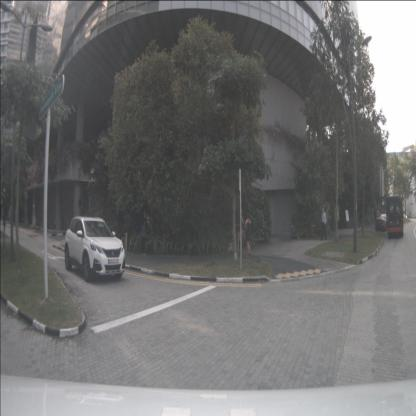human-pedestrian-adult: (236, 208, 244, 252), (245, 212, 251, 258), (140, 220, 146, 255), (320, 207, 326, 241), (292, 213, 296, 235), (376, 208, 380, 224), (52, 218, 56, 230)
vehicle-bus-rigid: (386, 196, 404, 236)
vehicle-car: (64, 216, 126, 283), (375, 214, 393, 232)
